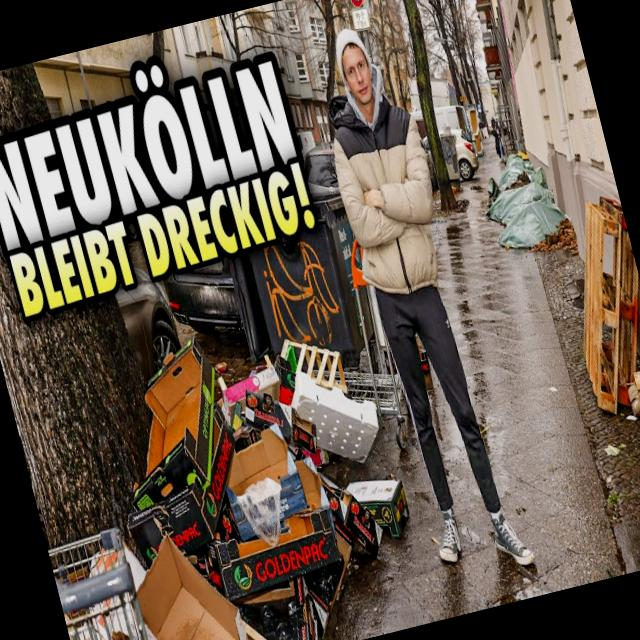garbage: (0, 270, 442, 640), (460, 128, 575, 270)
